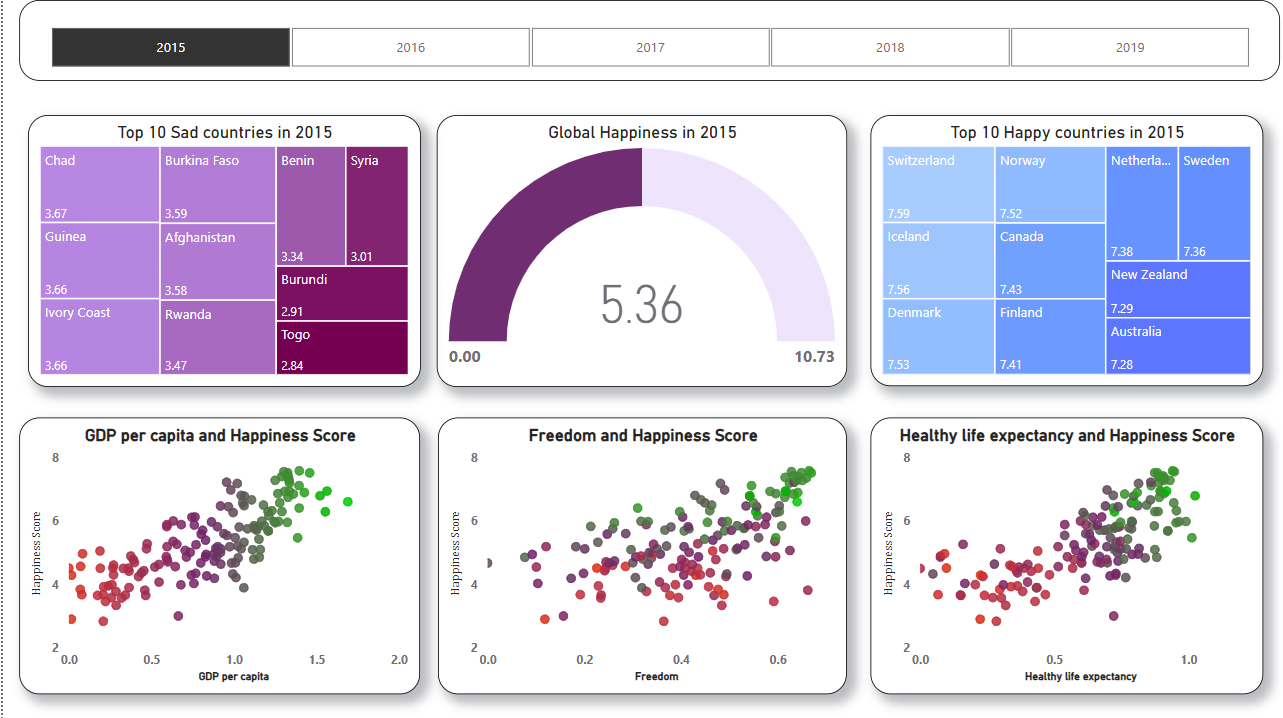

The dashboard page shown, as its layout file describes it:
{"tool":"powerbi","page":{"name":"Page 1","canvas":[1280,720],"ordinal":0},"visuals":[{"type":"slicer","fields":{"Values":["data.Year"]},"box":[15.9,0,1260.7,80.7],"z":0},{"type":"gauge","fields":{"Y":["Avg(data.Happiness Score)"]},"box":[433.6,115.3,410.3,271.7],"z":1000},{"type":"treemap","fields":{"Group":["data.Country"],"Values":["Avg(data.Happiness Score)"]},"box":[867,114.9,392.5,271.5],"z":2000},{"type":"treemap","fields":{"Group":["data.Country"],"Values":["Avg(data.Happiness Score)"]},"box":[24.7,115.3,392.5,271.7],"z":3000},{"type":"scatterChart","fields":{"X":["data.GDP per capita"],"Y":["data.Happiness Score"]},"box":[16.5,417.2,400.7,277.2],"z":4000},{"type":"scatterChart","fields":{"Y":["data.Happiness Score"],"X":["data.Healthy life expectancy"]},"box":[867.2,417.2,392.5,277.2],"z":5000},{"type":"scatterChart","fields":{"Y":["data.Happiness Score"],"X":["data.Freedom"]},"box":[435,417.2,408.9,277.2],"z":6000}]}

Visuals, with their boxes in screenshot pixels (x1, y1, x2, y2), scaled from the page's 1280x720 canvas onto the 1283x718 screenshot:
slicer - data.Year: rect(16, 0, 1280, 80)
gauge - Avg(data.Happiness Score): rect(435, 115, 846, 386)
treemap - data.Country x Avg(data.Happiness Score): rect(869, 115, 1262, 385)
treemap - data.Country x Avg(data.Happiness Score): rect(25, 115, 418, 386)
scatterChart - data.GDP per capita x data.Happiness Score: rect(17, 416, 418, 692)
scatterChart - data.Happiness Score x data.Healthy life expectancy: rect(869, 416, 1263, 692)
scatterChart - data.Happiness Score x data.Freedom: rect(436, 416, 846, 692)
